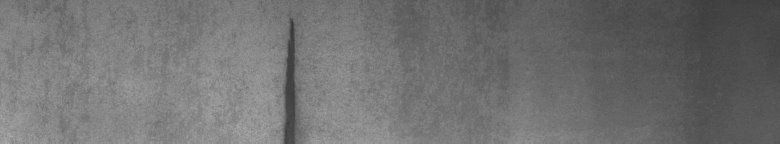hd: (276, 19, 304, 136)
